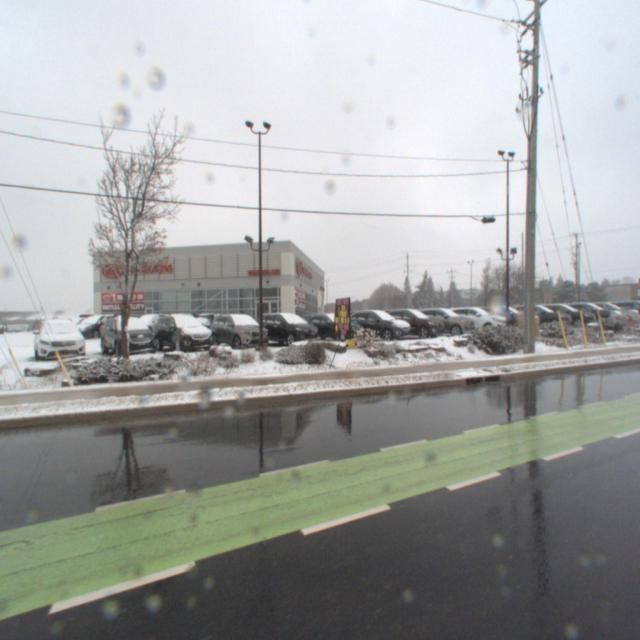Car: (95, 310, 162, 356), (148, 308, 218, 351), (30, 310, 86, 362), (206, 308, 274, 350), (251, 309, 323, 348), (296, 308, 368, 346), (340, 308, 414, 344), (374, 307, 447, 341), (462, 306, 539, 335), (405, 308, 477, 338), (439, 307, 509, 337), (499, 306, 571, 334), (524, 305, 594, 333), (64, 306, 126, 336), (92, 308, 150, 336), (120, 308, 173, 337), (149, 308, 197, 336), (182, 307, 224, 335)
